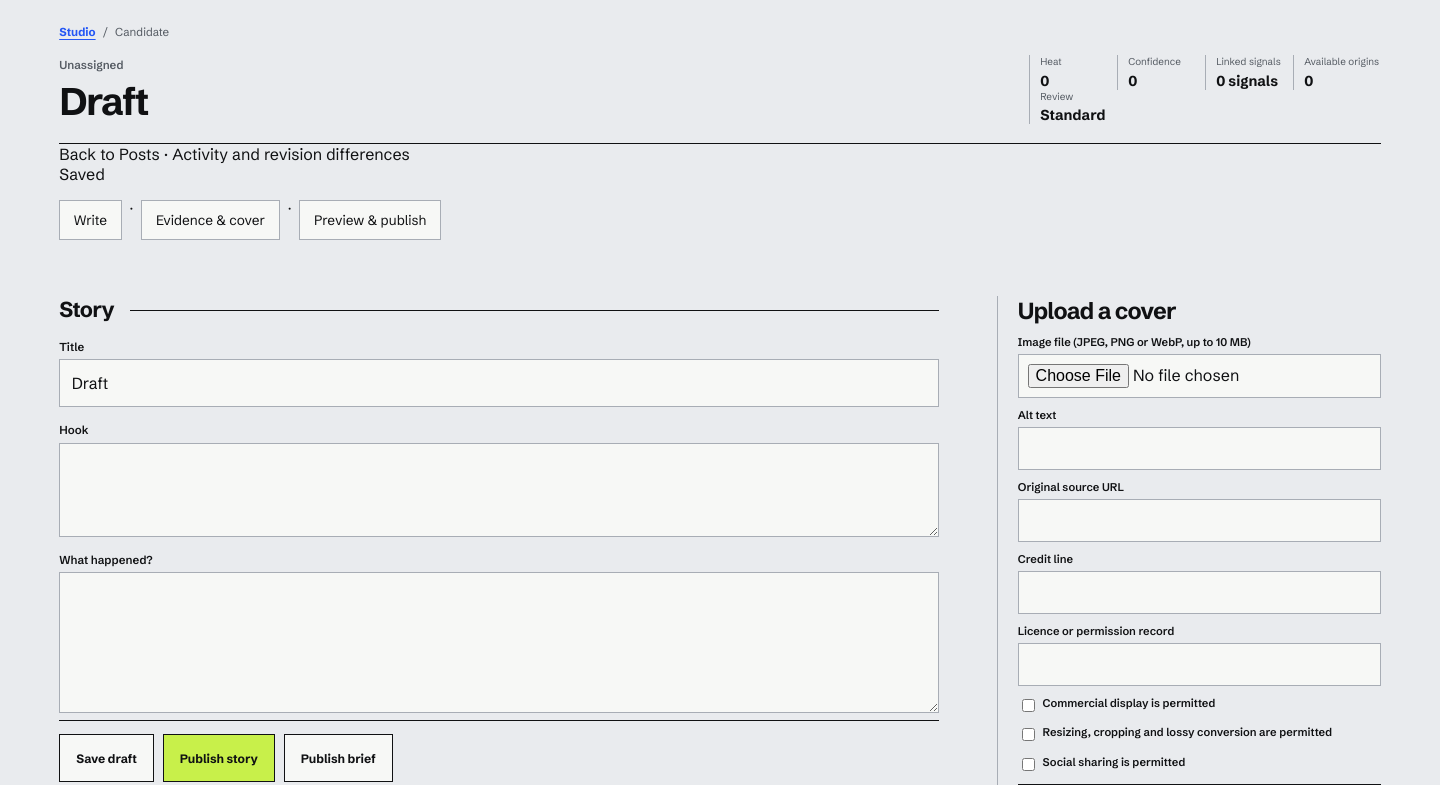
Test case: attaches an uploaded cover and autosaves current writing with the same editorial version
The image size is (1440, 785).
In the text box labelled "Hook": (499, 490) 59,442 -> 939,537, type "Writing beside upload"
(page scrolled)
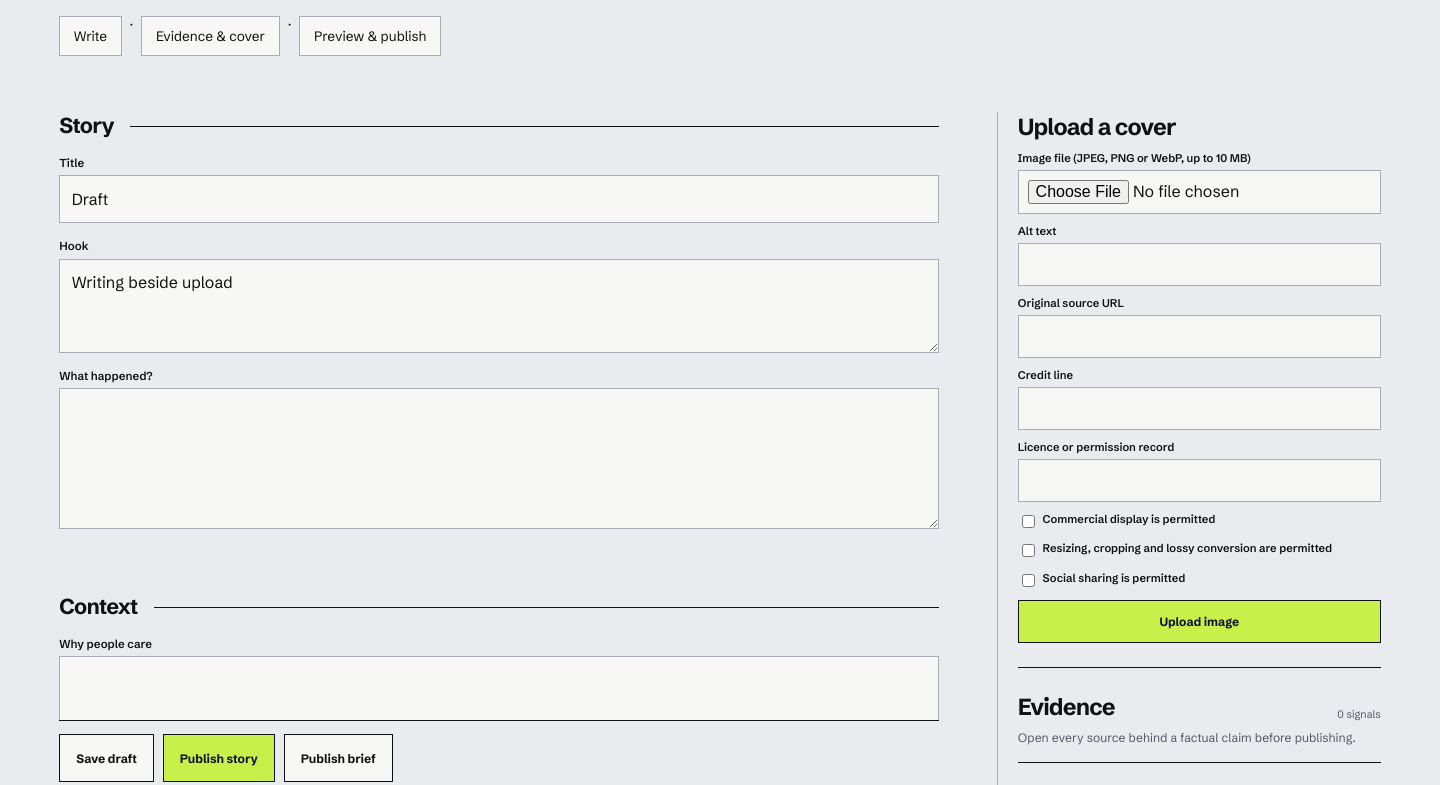
Submit the form named "Upload approved image", box 1018,112 -> 1381,668
(page scrolled)
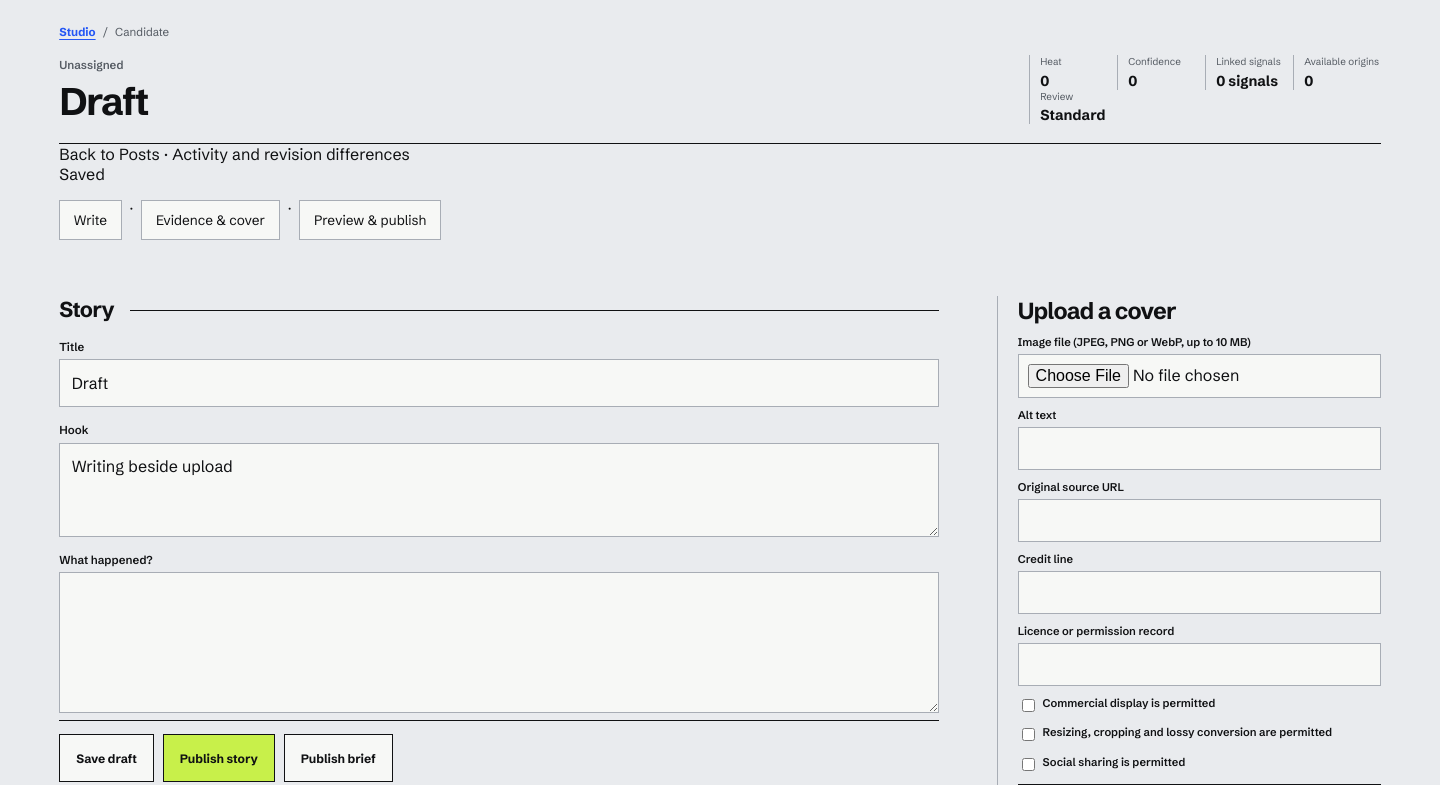
Check: the message reads "Saved", box 59,164 -> 105,184
